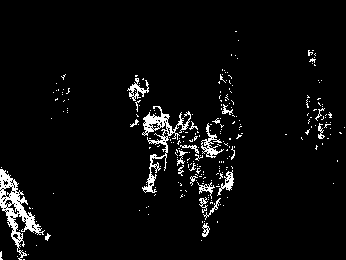person: (195, 121, 235, 240), (1, 159, 47, 258), (169, 110, 201, 198), (142, 105, 172, 196), (216, 99, 246, 156), (127, 74, 150, 130)
